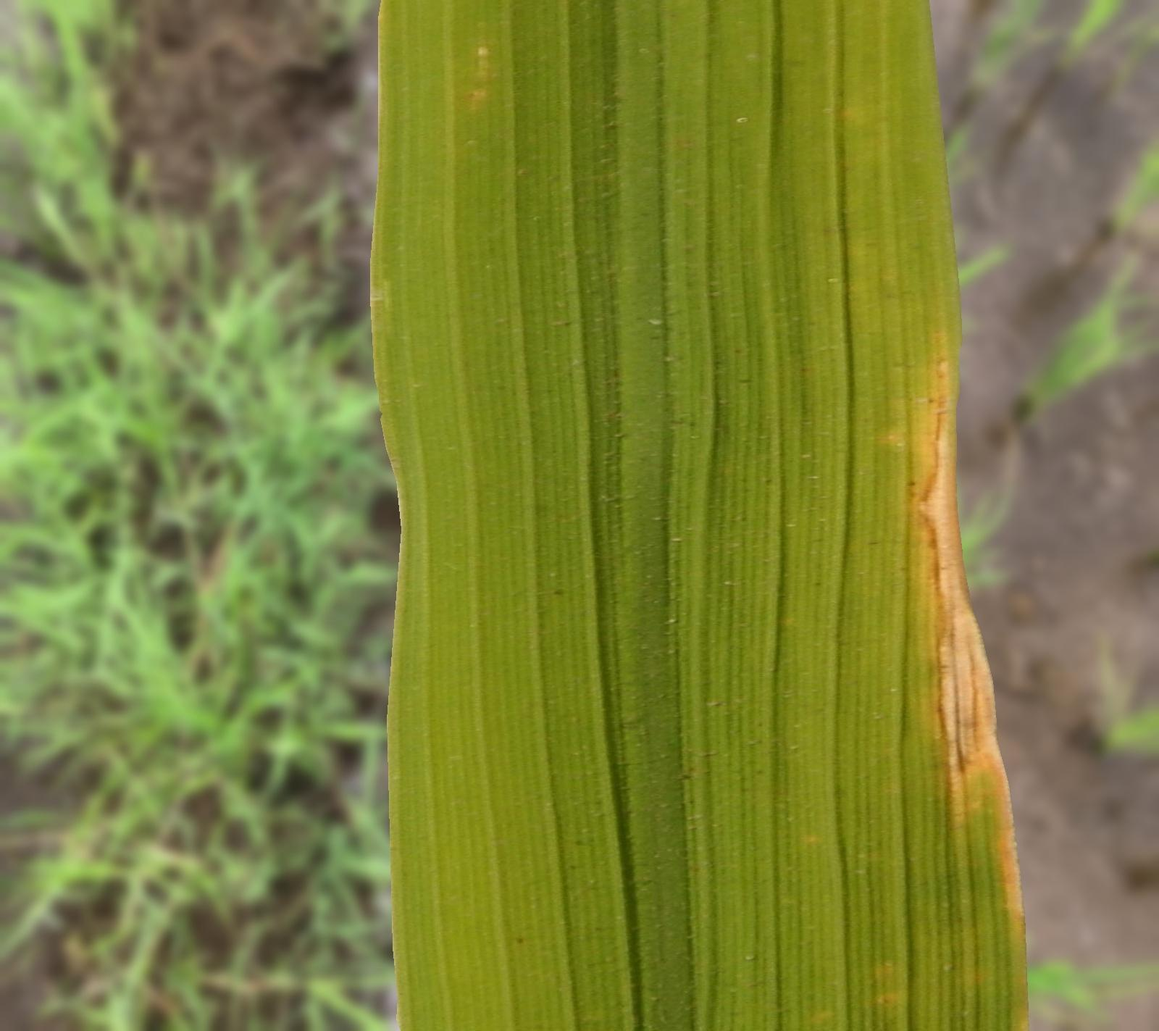BLS: (919, 359, 1024, 938), (919, 410, 1023, 922)
LEAF: (370, 0, 1029, 1030)
